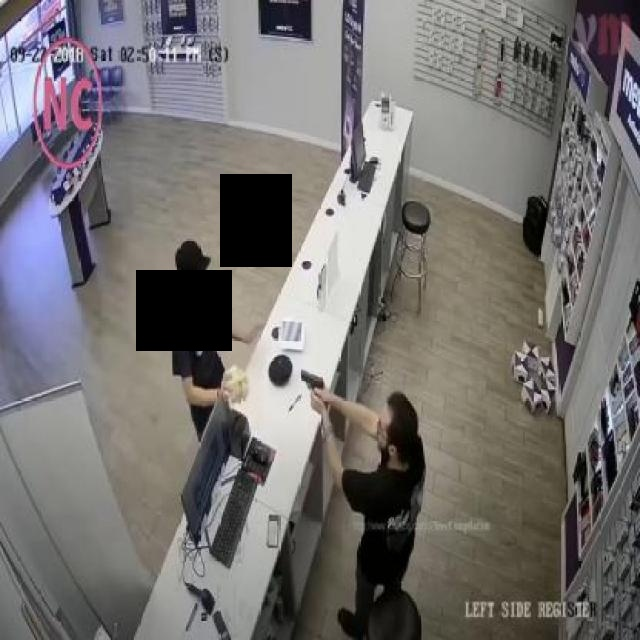gun: (299, 362, 328, 409)
